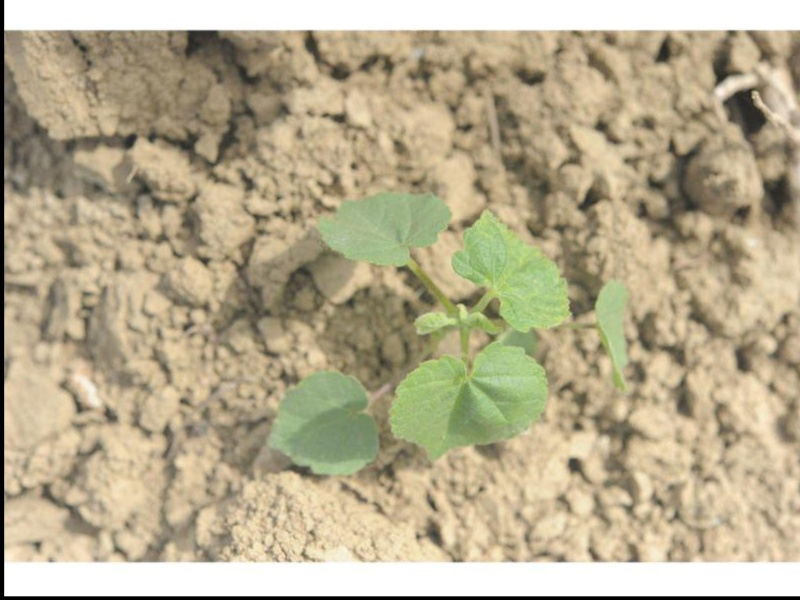velvet: (266, 188, 627, 477)
